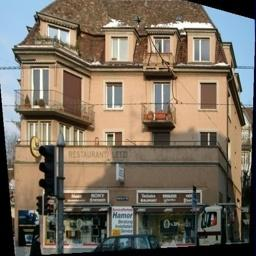building: (14, 0, 223, 243)
